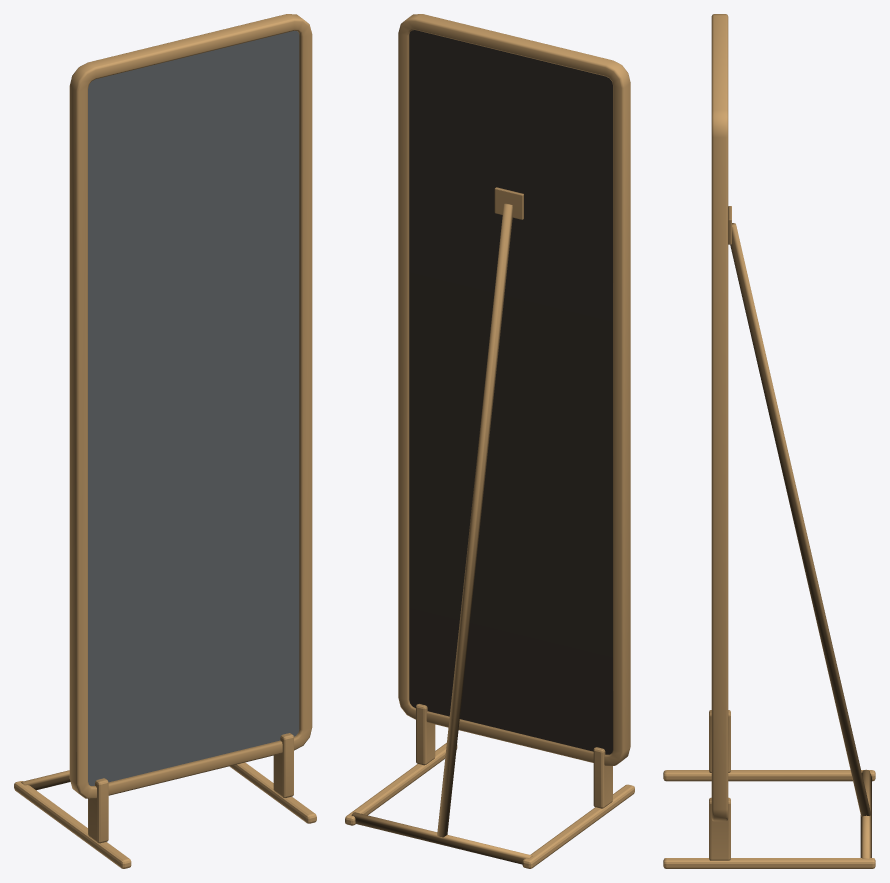
File: mirrorFloor.glb
3 renders of one model, left to right at view 1: azimuth 30°, elevation 25°; view 2: azimuth 150°, elevation 25°; view 3: azimuth 270°, elevation 25°, orthographic. The views are drawn at different scales.
Visible parts, largest first — view 1: mirrorFloor; view 2: mirrorFloor; view 3: mirrorFloor.
Part boxes in pixels (bbox=[...]): mirrorFloor: bbox=[14, 14, 316, 868]; mirrorFloor: bbox=[345, 14, 634, 868]; mirrorFloor: bbox=[663, 14, 875, 868].
Size of the model in its own units: 0.56 by 1.78 by 0.45.
